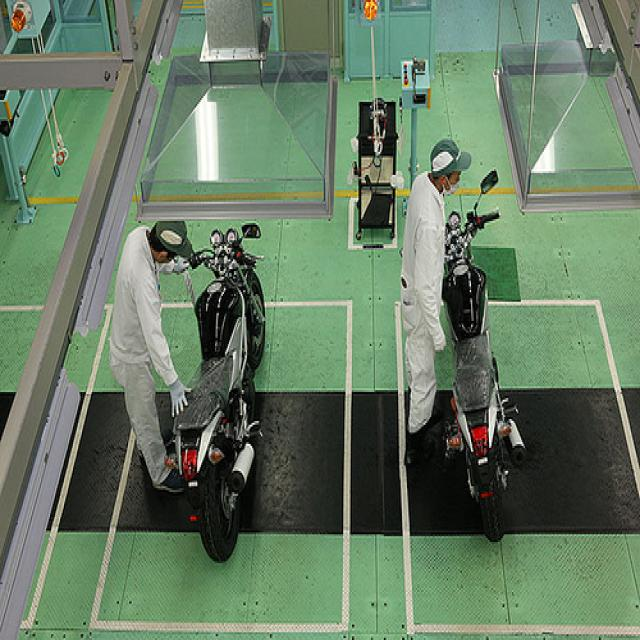motor: (165, 222, 265, 564), (440, 168, 528, 545)
